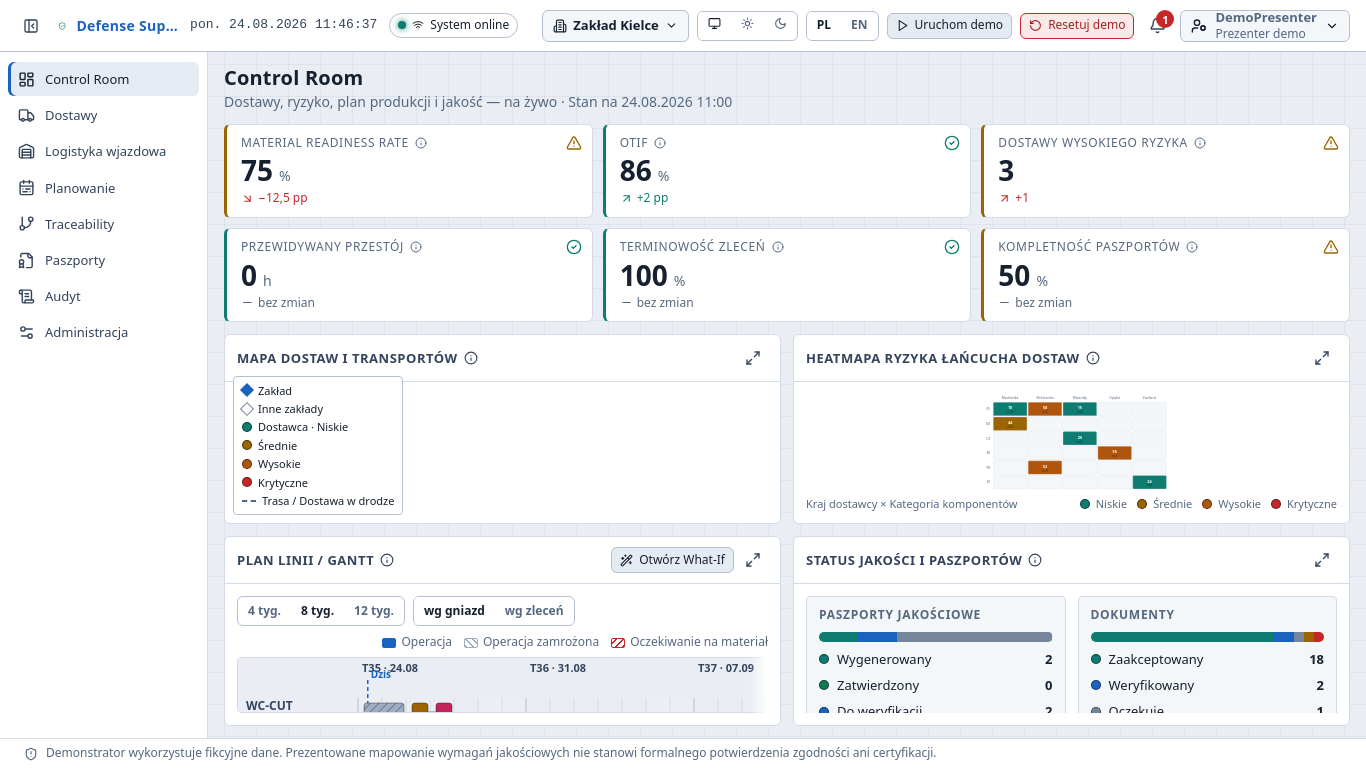
Test case: plant switching › switches the whole control room to the selected plant
Expected: the button with test id "kpi-HIGH_RISK_DELIVERIES" shows "3", [981,124,1350,218]
Step 1. Click the button with test id "site-switch" → (616,26), box [542,10,689,42]
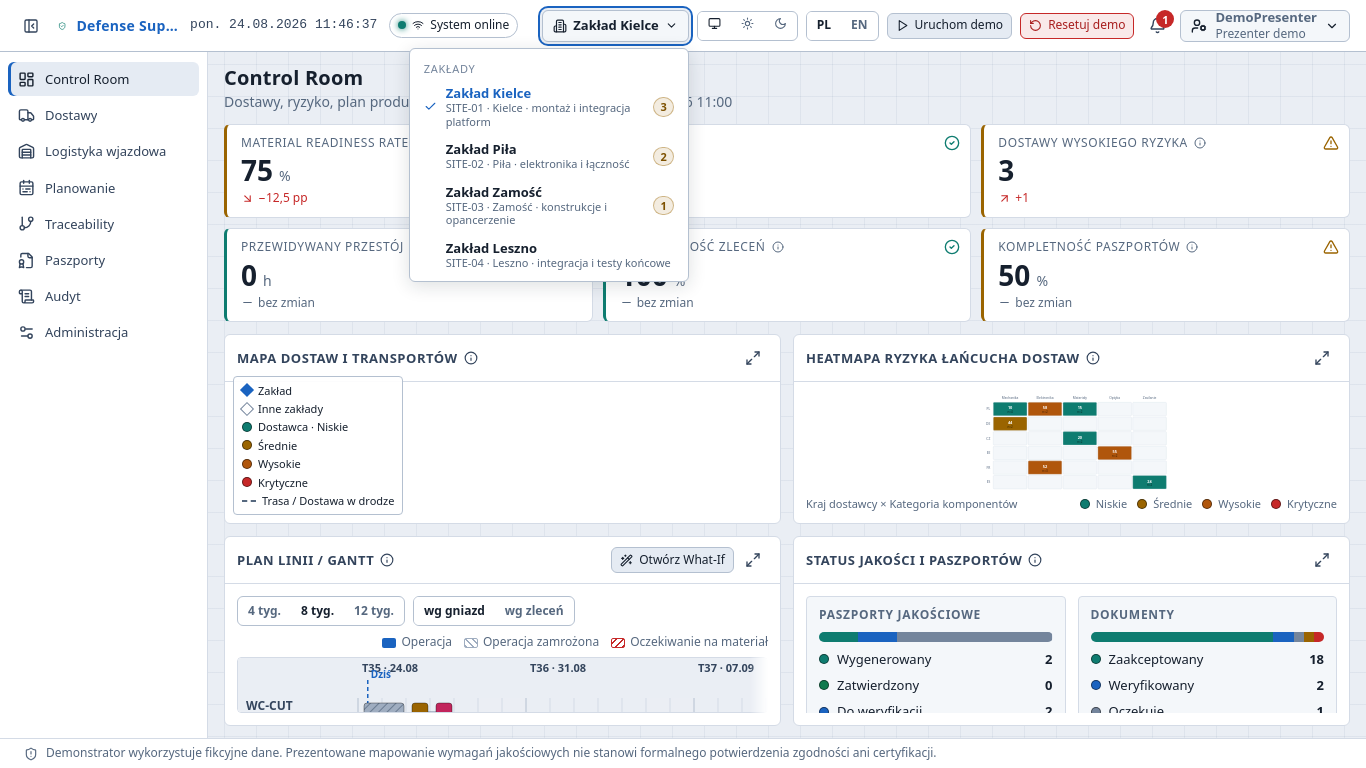
Step 2. Click the option with test id "site-option-SITE-02" → (549,156), box [416,136,682,177]
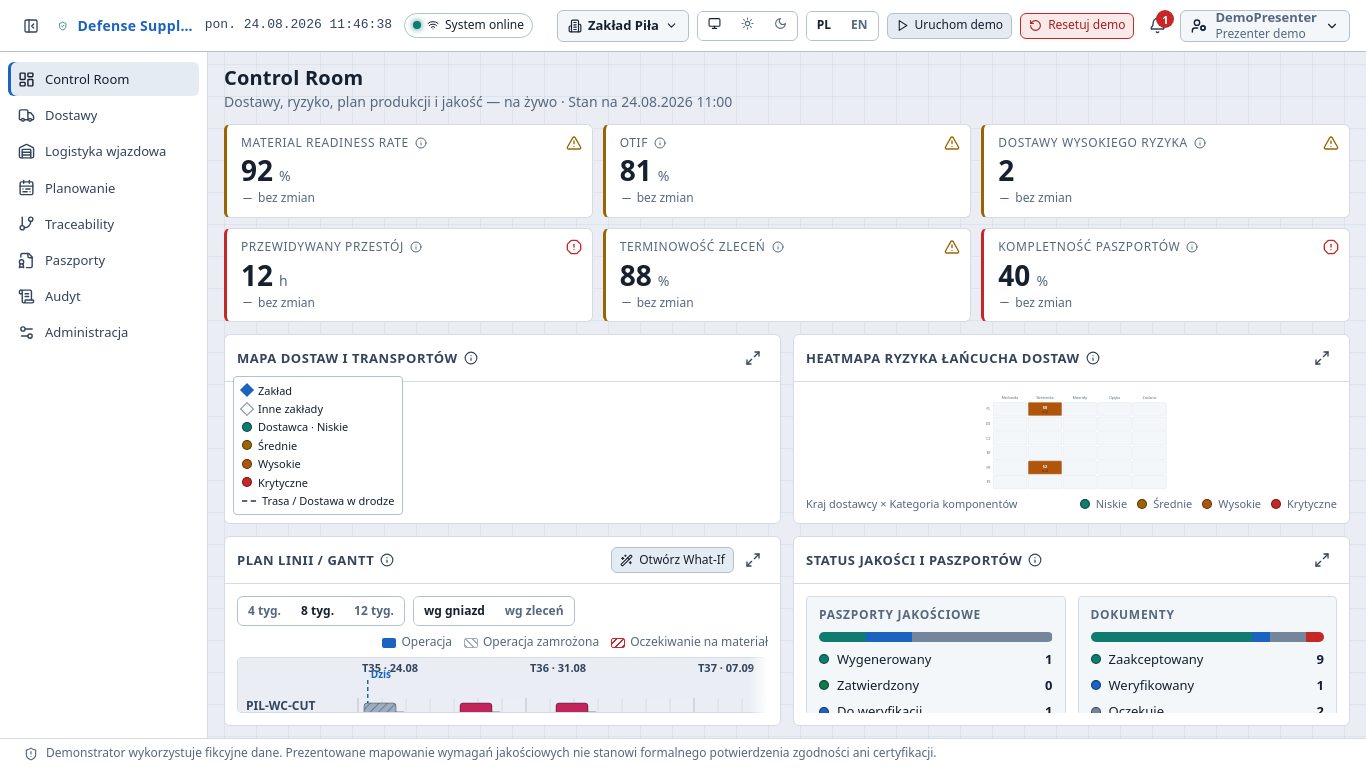
Now the button with test id "kpi-HIGH_RISK_DELIVERIES" shows "2", box [981,124,1350,218]
Now the button with test id "kpi-PREDICTED_DOWNTIME_H" shows "12", box [224,228,593,322]
Now the button with test id "site-switch" shows "Piła", box [557,10,689,42]
